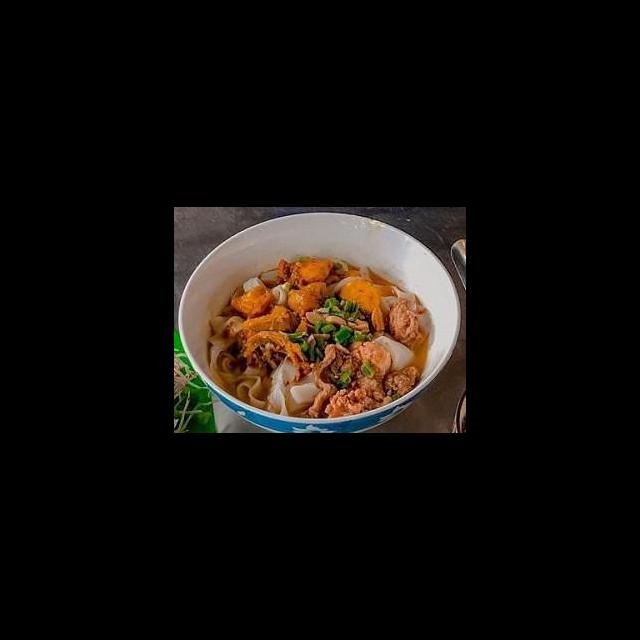mi: (232, 354, 323, 420), (204, 313, 250, 397), (240, 267, 292, 310), (374, 284, 423, 319)
